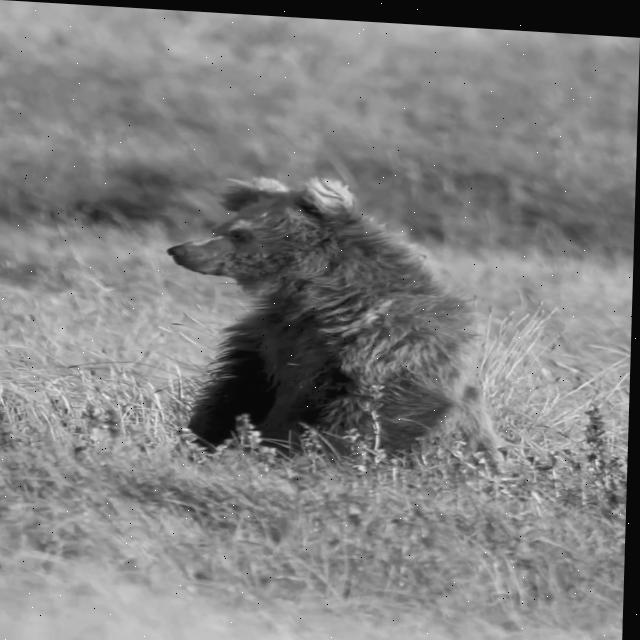Bear: (158, 168, 516, 484)
